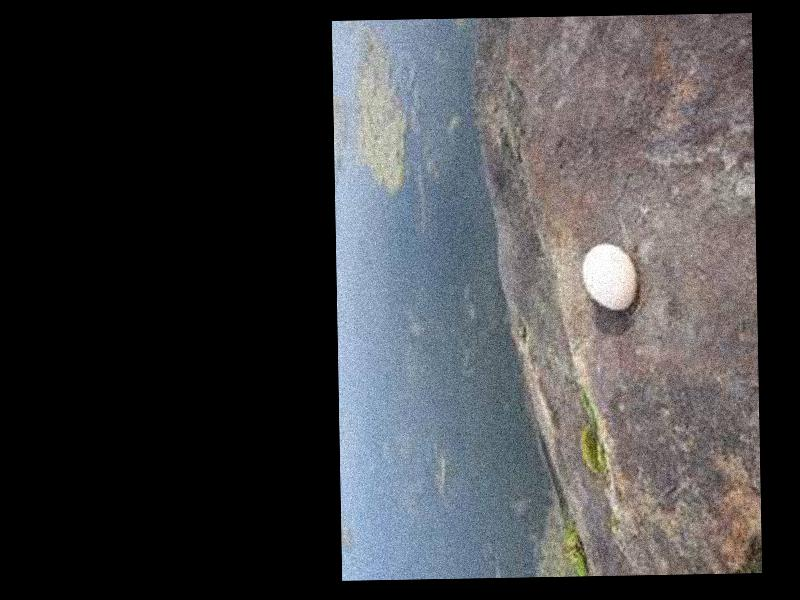Eggs: (580, 239, 636, 310)
